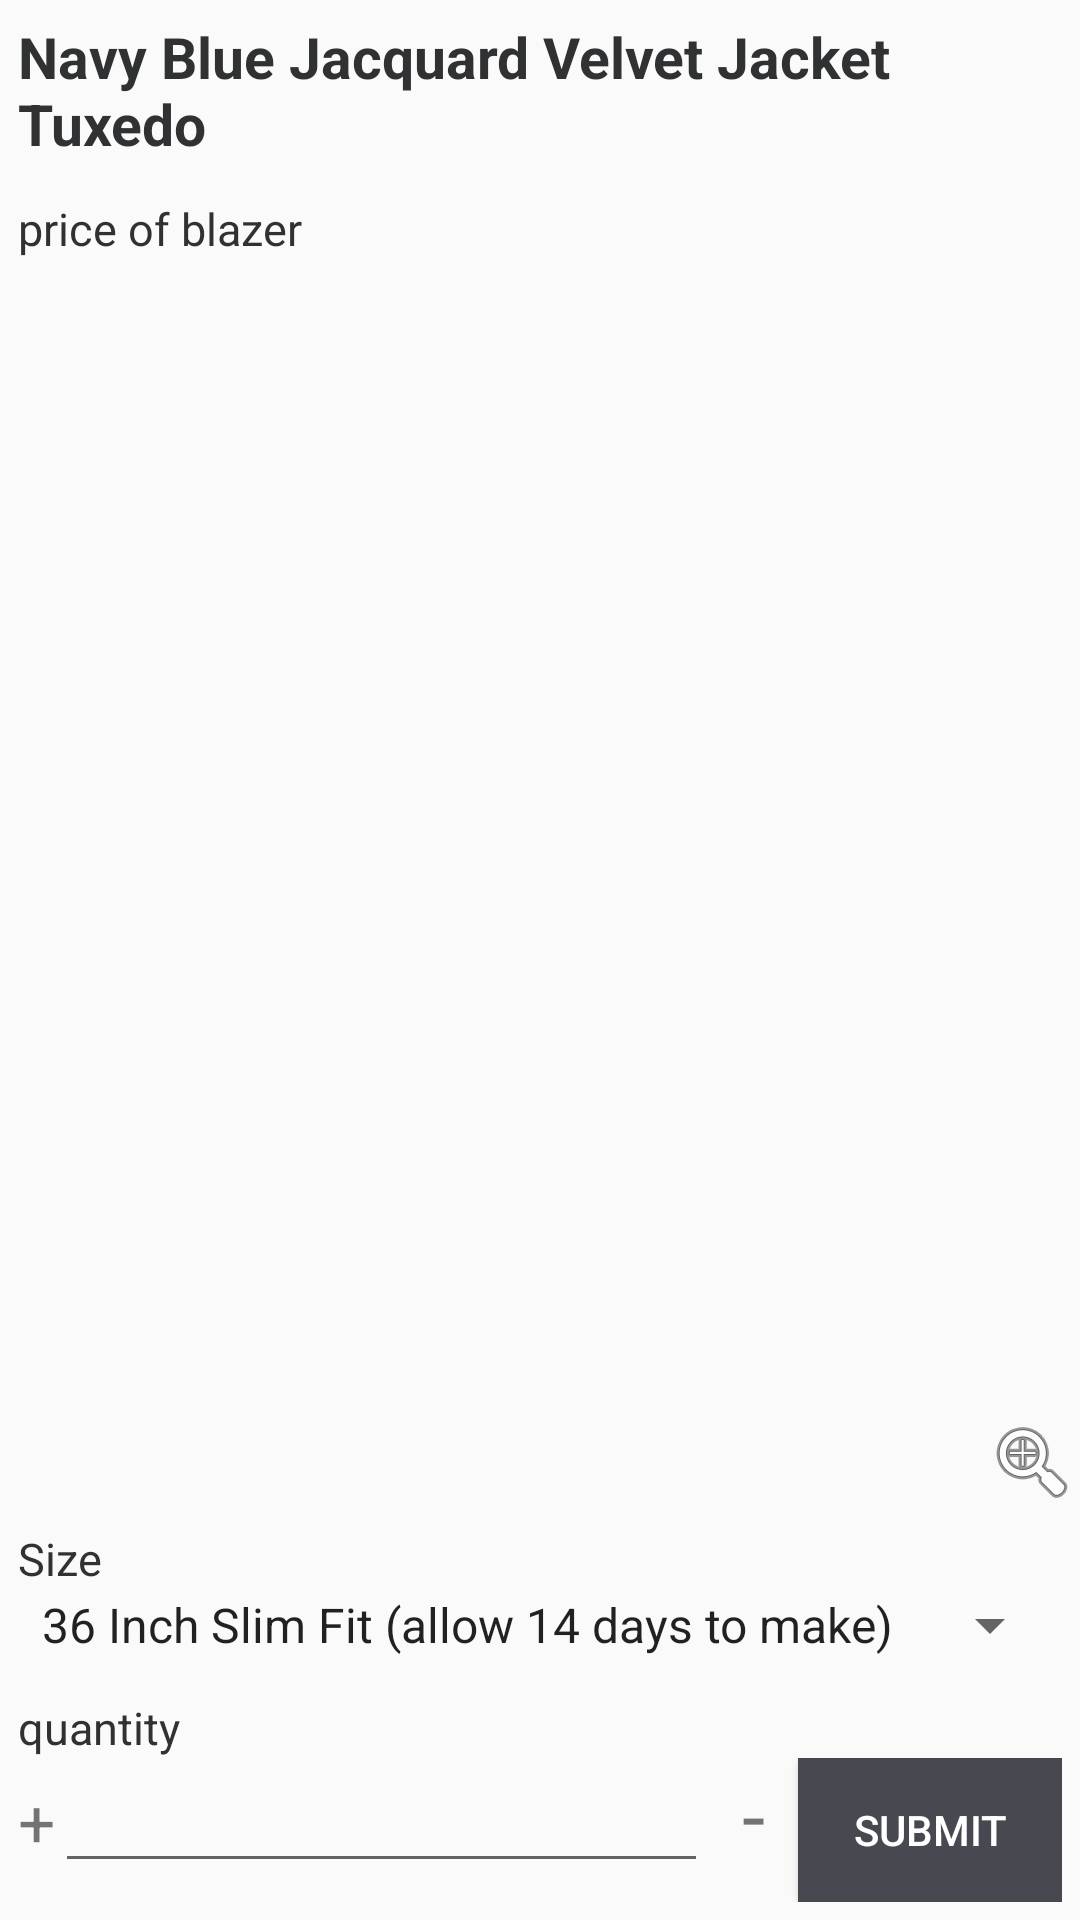

Named icons in this screenshot (1080x1920) and their centers, [x,y]:
zoom: [1032,1462]
